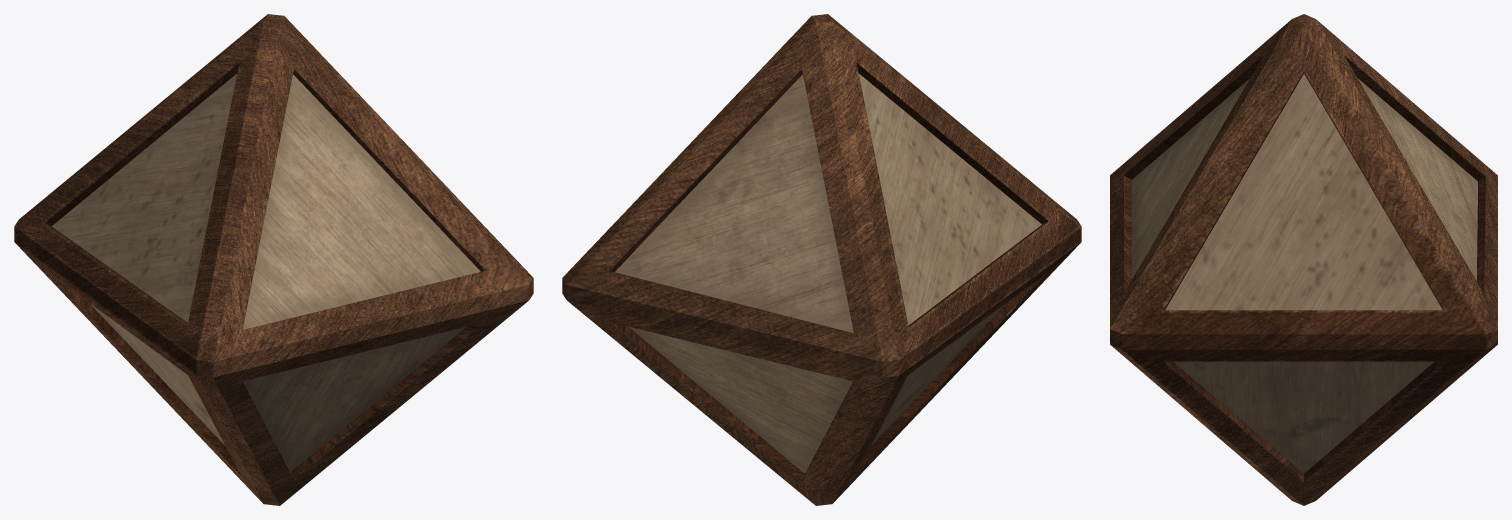
3 renders of one model, left to right at view 1: azimuth 30°, elevation 25°; view 2: azimuth 150°, elevation 25°; view 3: azimuth 270°, elevation 25°, orthographic.
Visible parts, largest first — view 1: polySurface1; view 2: polySurface1; view 3: polySurface1.
Boxes of the visible parts, <box> form: polySurface1: <box>14,14,533,505</box>; polySurface1: <box>562,14,1081,505</box>; polySurface1: <box>1110,14,1497,505</box>.
Bounding box in the file's own units: 0.0259 × 0.0354 × 0.0259.
Materials: 1 (1 with a texture image).
